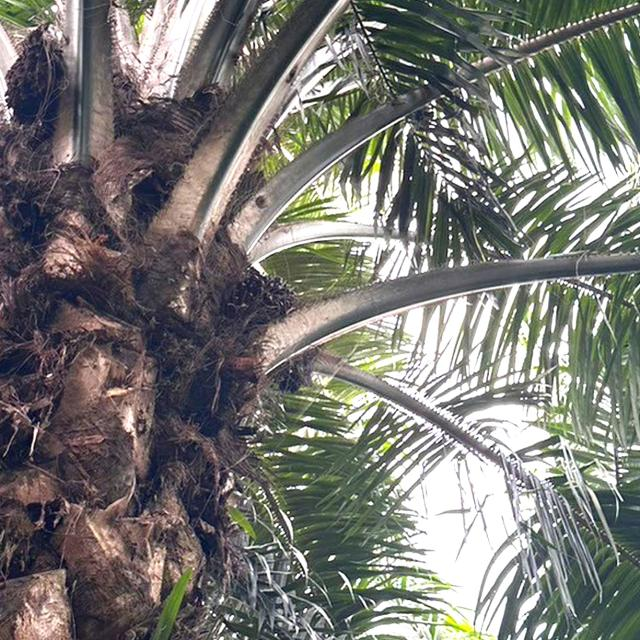almost: (234, 263, 320, 392)
